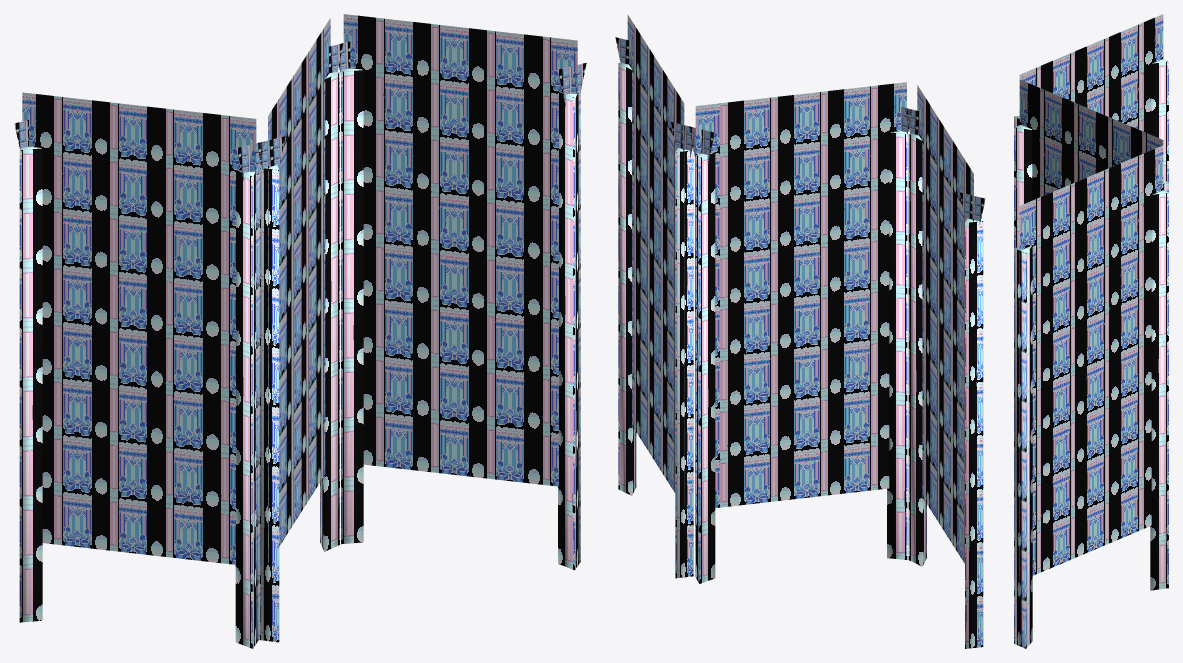
The picture shows the model from 3 angles, left to right: view 1: azimuth 30°, elevation 25°; view 2: azimuth 150°, elevation 25°; view 3: azimuth 270°, elevation 25°; orthographic projection. The views are drawn at different scales.
Parts seen in each view (by area): view 1: 3208kg_sh2_00; view 2: 3208kg_sh2_00; view 3: 3208kg_sh2_00.
Part boxes in pixels (x1,y1,x2,y2): 3208kg_sh2_00: (14, 14, 586, 648); 3208kg_sh2_00: (615, 14, 985, 648); 3208kg_sh2_00: (1014, 14, 1168, 648).
Size of the model in its own units: 1.92 by 1.96 by 0.6257.
Materials: 1 (1 with a texture image).
